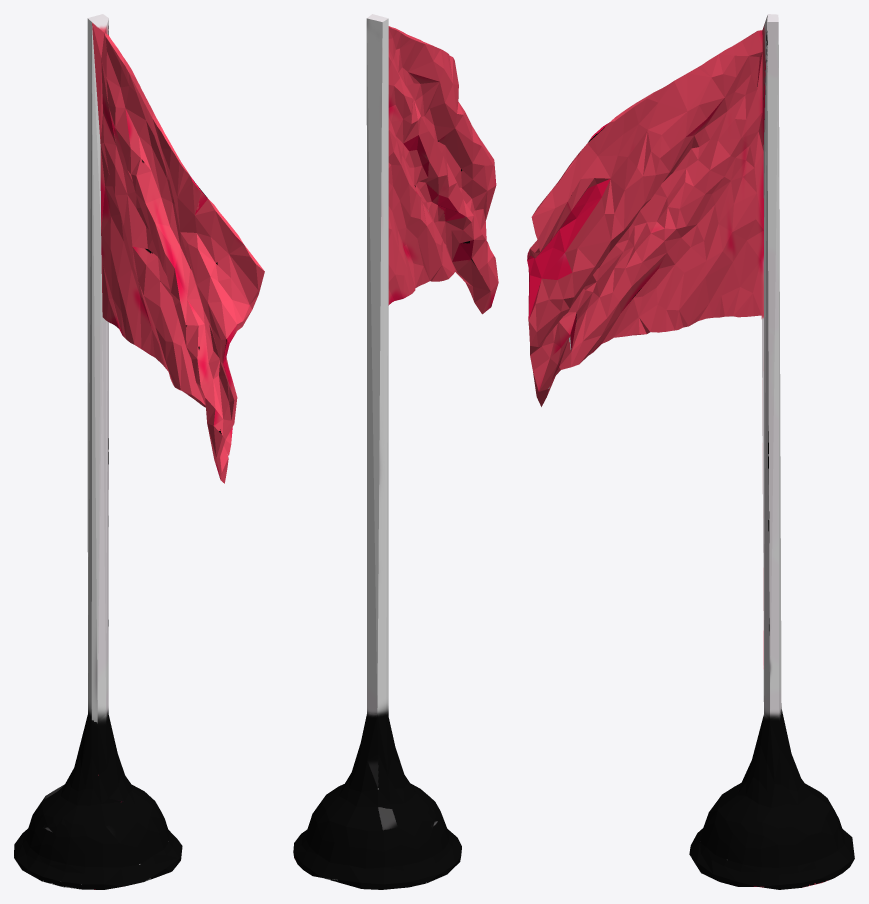
The model's file is flag.dae.
3 renders of one model, left to right at view 1: azimuth 30°, elevation 25°; view 2: azimuth 150°, elevation 25°; view 3: azimuth 270°, elevation 25°, orthographic.
Visible parts, largest first — view 1: flag; view 2: flag; view 3: flag.
Part boxes in pixels (bbox=[...]): flag: bbox=[14, 14, 264, 889]; flag: bbox=[293, 14, 498, 889]; flag: bbox=[527, 14, 854, 889].
Size of the model in its own units: 22.46 by 43.44 by 122.
Materials: 1 (1 with a texture image).
